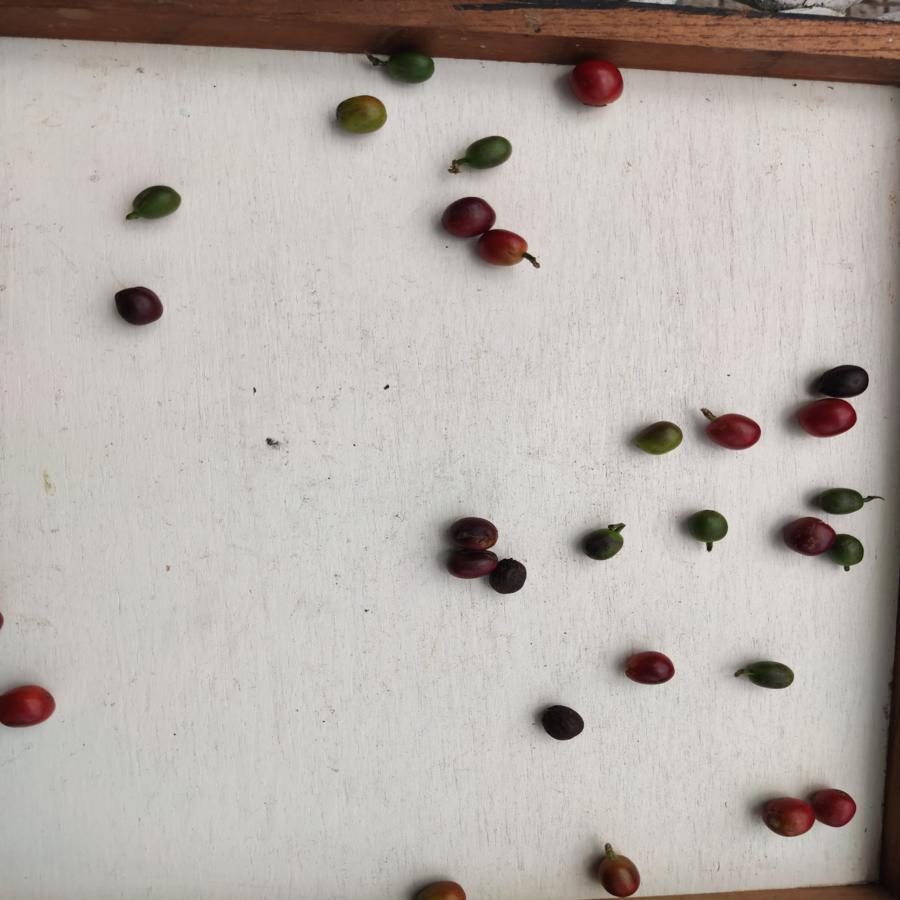Inmaduro: (384, 51, 441, 91), (462, 134, 516, 174), (130, 183, 184, 221), (578, 521, 626, 562), (746, 659, 798, 695), (685, 507, 731, 547), (813, 484, 866, 514), (833, 533, 865, 573)
Maduro: (563, 59, 628, 109), (702, 412, 766, 454), (793, 398, 859, 438), (1, 684, 59, 729), (808, 782, 859, 830), (476, 226, 529, 269), (763, 796, 815, 839), (620, 650, 678, 687)
Pinton: (596, 853, 644, 899), (335, 93, 388, 134), (636, 420, 685, 459), (413, 878, 466, 900)
Sobremaduro: (777, 514, 835, 558), (111, 286, 167, 329), (441, 195, 498, 237), (817, 362, 870, 398), (538, 703, 587, 741), (449, 515, 499, 550), (447, 548, 496, 583), (490, 554, 529, 596)
